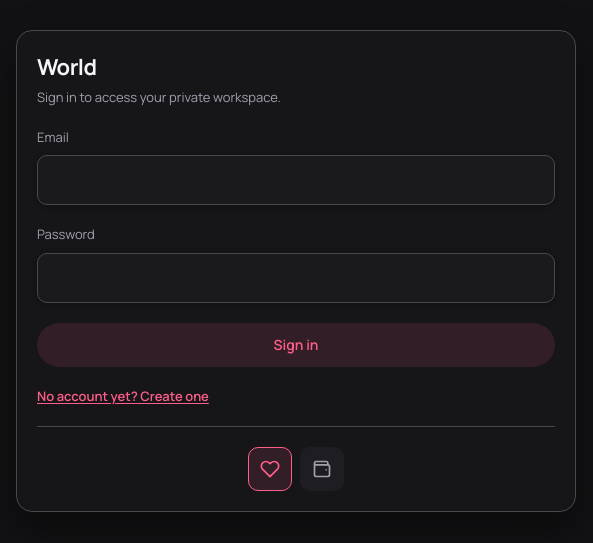
Scenario: <LoginScreen /> create account › holds a short password at the form instead of posting it
Click the button "No account yet? Create one" at (123, 396), box [37,386,209,406]
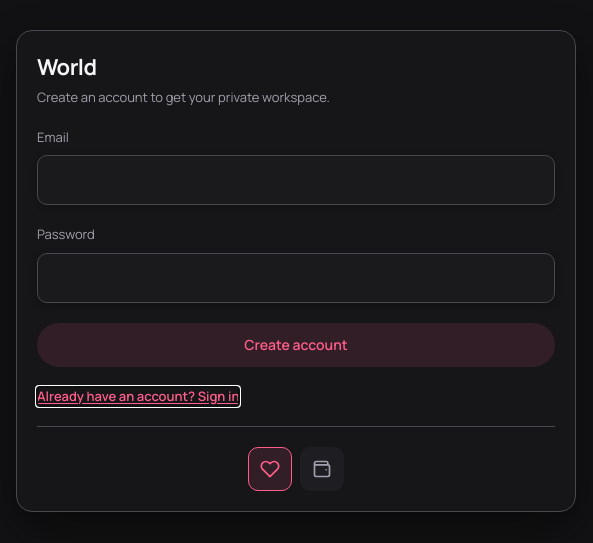
Type "new@example.com" into the field labelled "Email" at (296, 180), box [37,155,555,205]
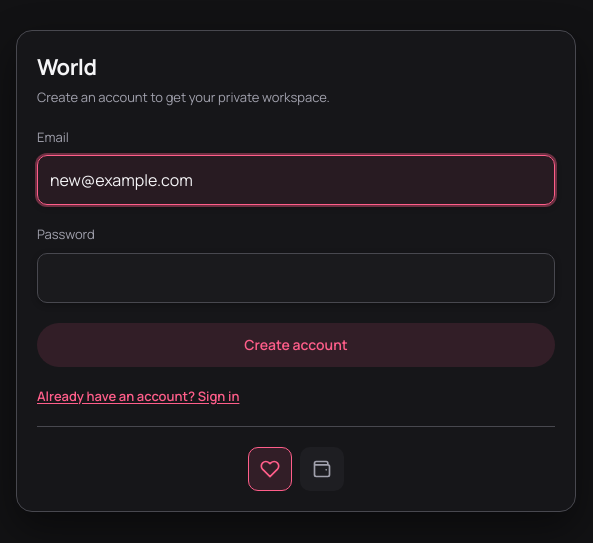
Type "short" into the password field labelled "Password" at (296, 278), box [37,252,555,302]
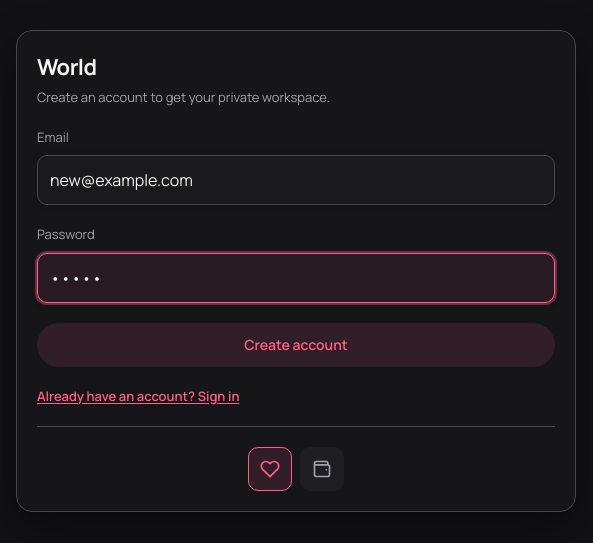
Click the button "Create account" at (296, 344), box [37,322,555,366]
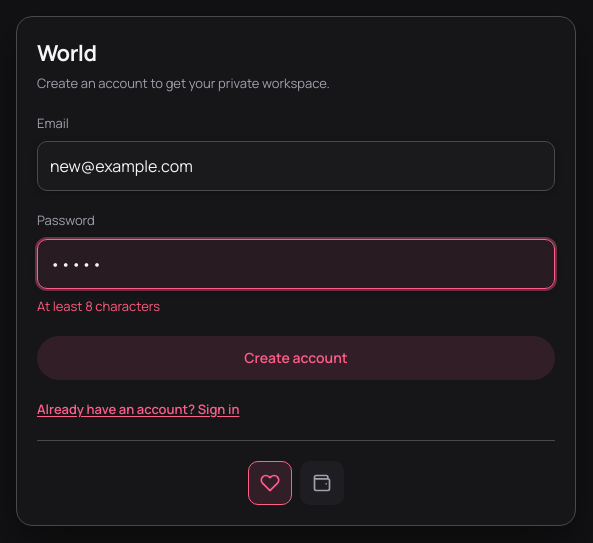
Result: the message reads "At least 8 characters" at [37,297,160,315]
